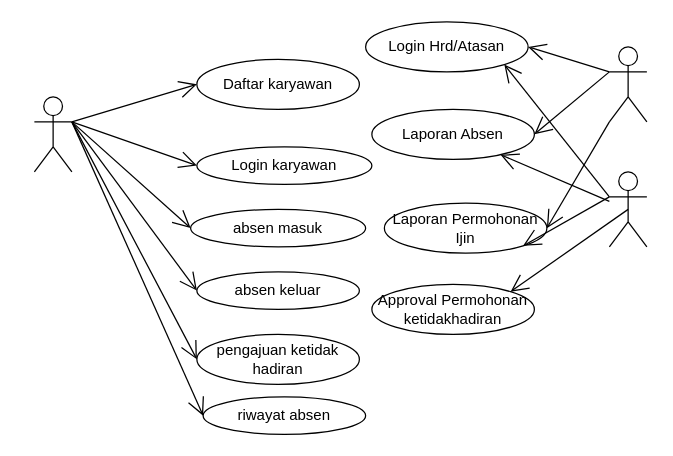
This 673x456 diagram has some shape labels left out. The shapes that lost their labels are listed below. From the top down, each one's box as (x1, y1, x2, y2) in pixels, then its label:
(608, 46, 647, 122): HRD
(33, 96, 72, 172): karyawan
(608, 171, 647, 247): Atasan
